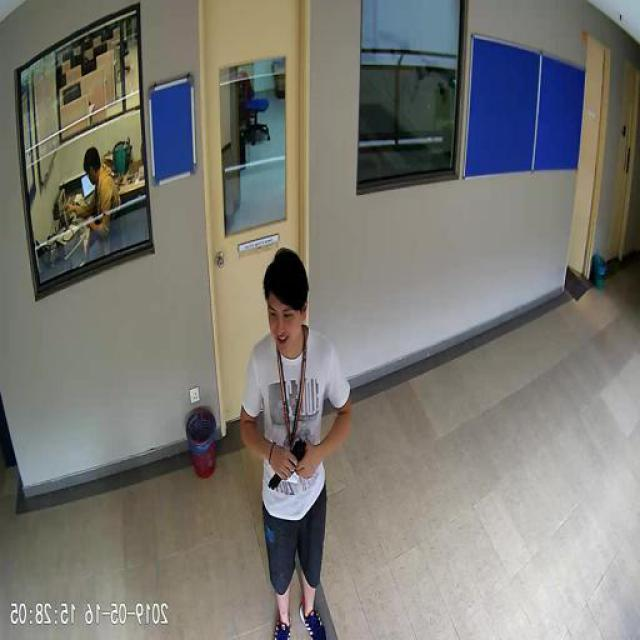Gun: (271, 438, 309, 490)
